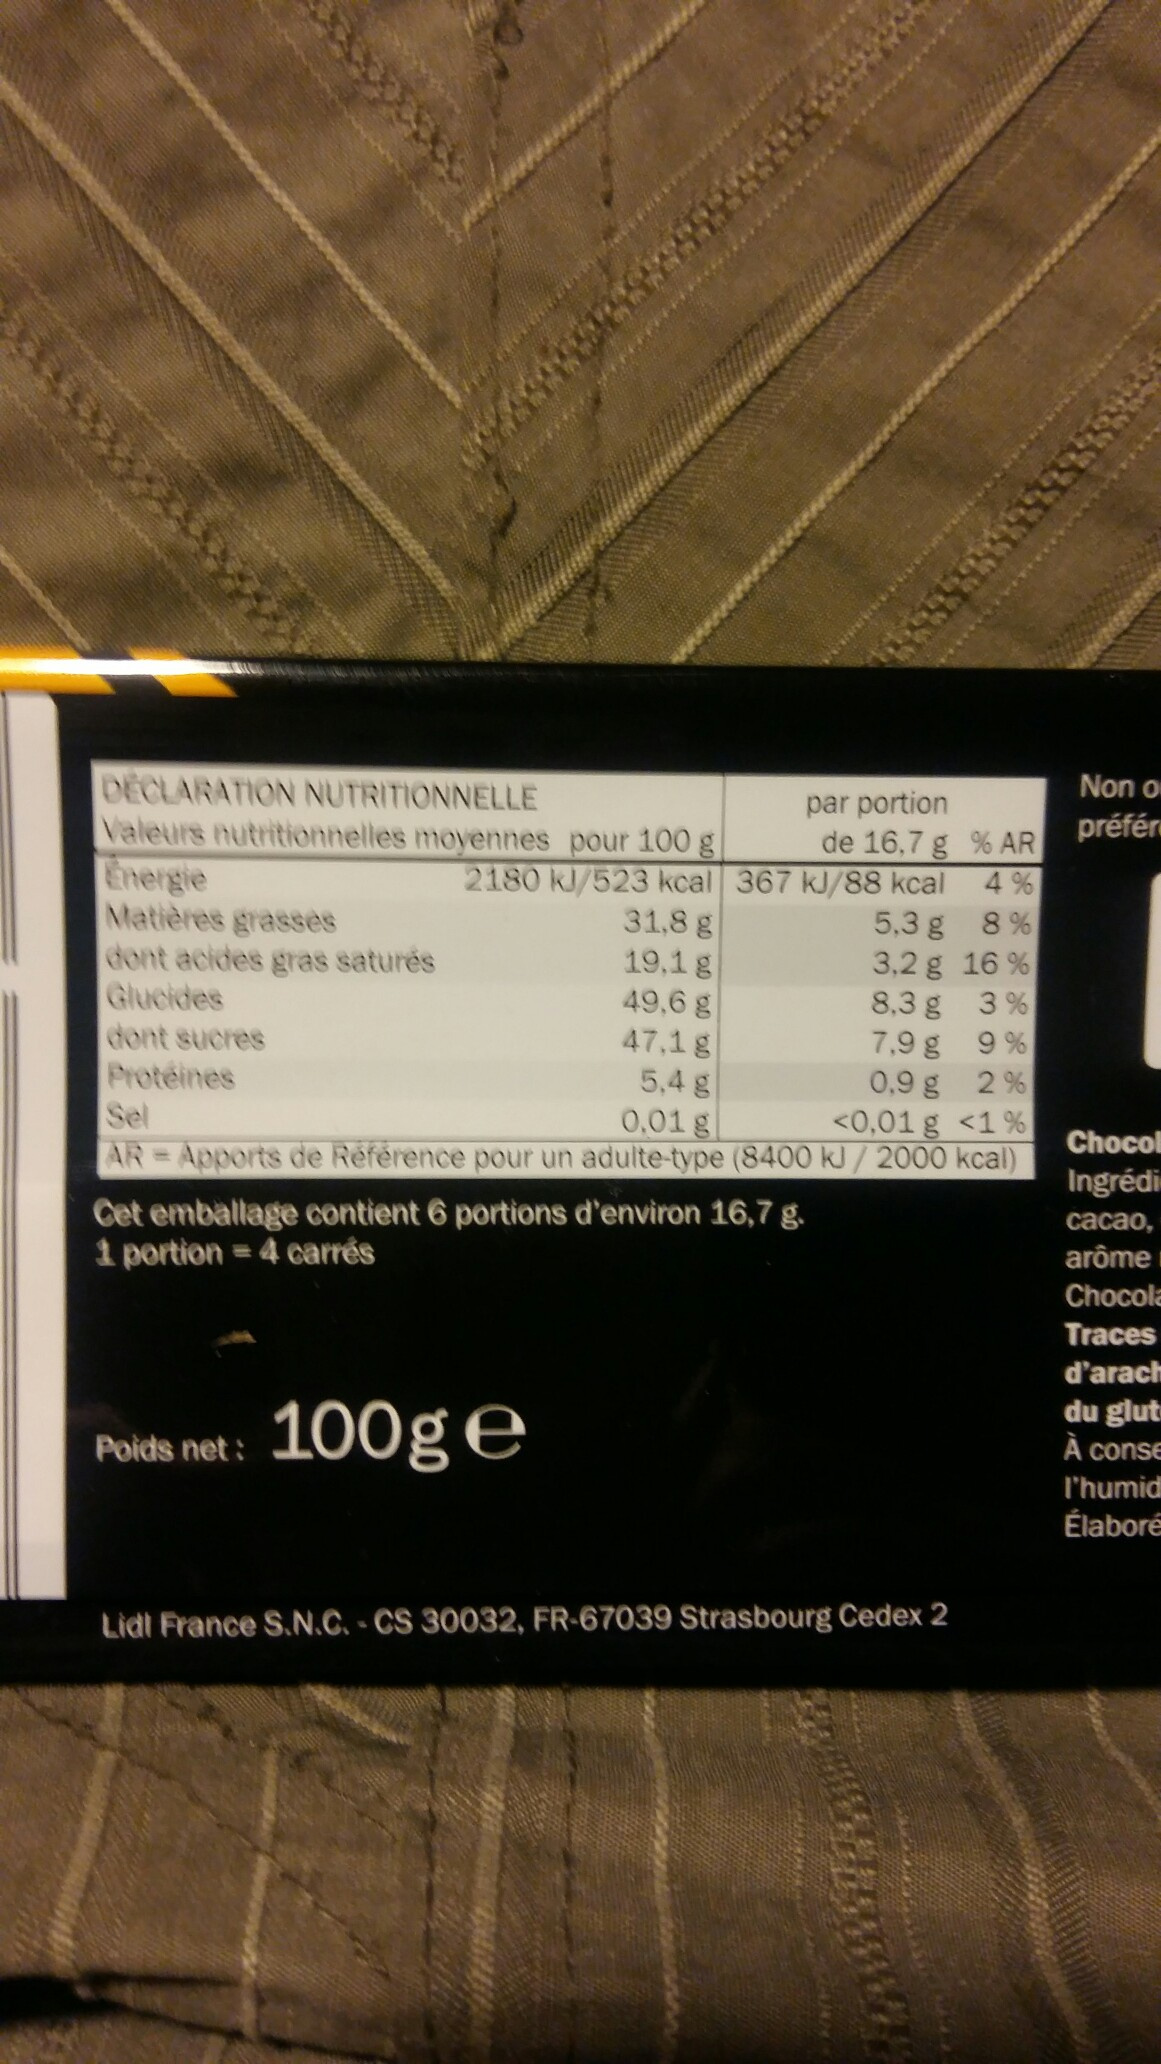column: (98, 859, 438, 1138), (729, 770, 953, 1138), (464, 868, 714, 1135), (961, 788, 1032, 1138)
table: (89, 763, 1038, 1143)
